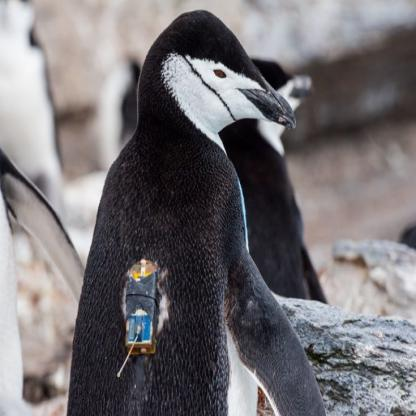Penguin: (62, 0, 346, 415)
